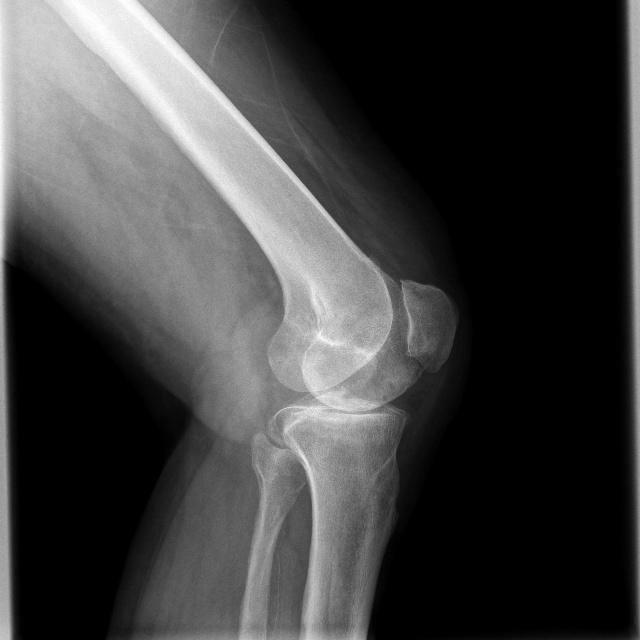Knee: (263, 269, 457, 457)
